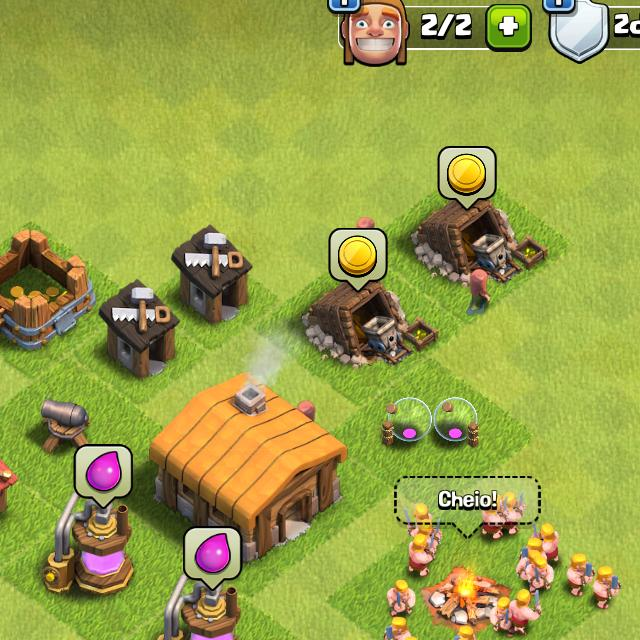Elixir: (75, 444, 133, 508), (186, 529, 241, 593)
coin: (329, 230, 389, 294), (439, 146, 499, 210)
